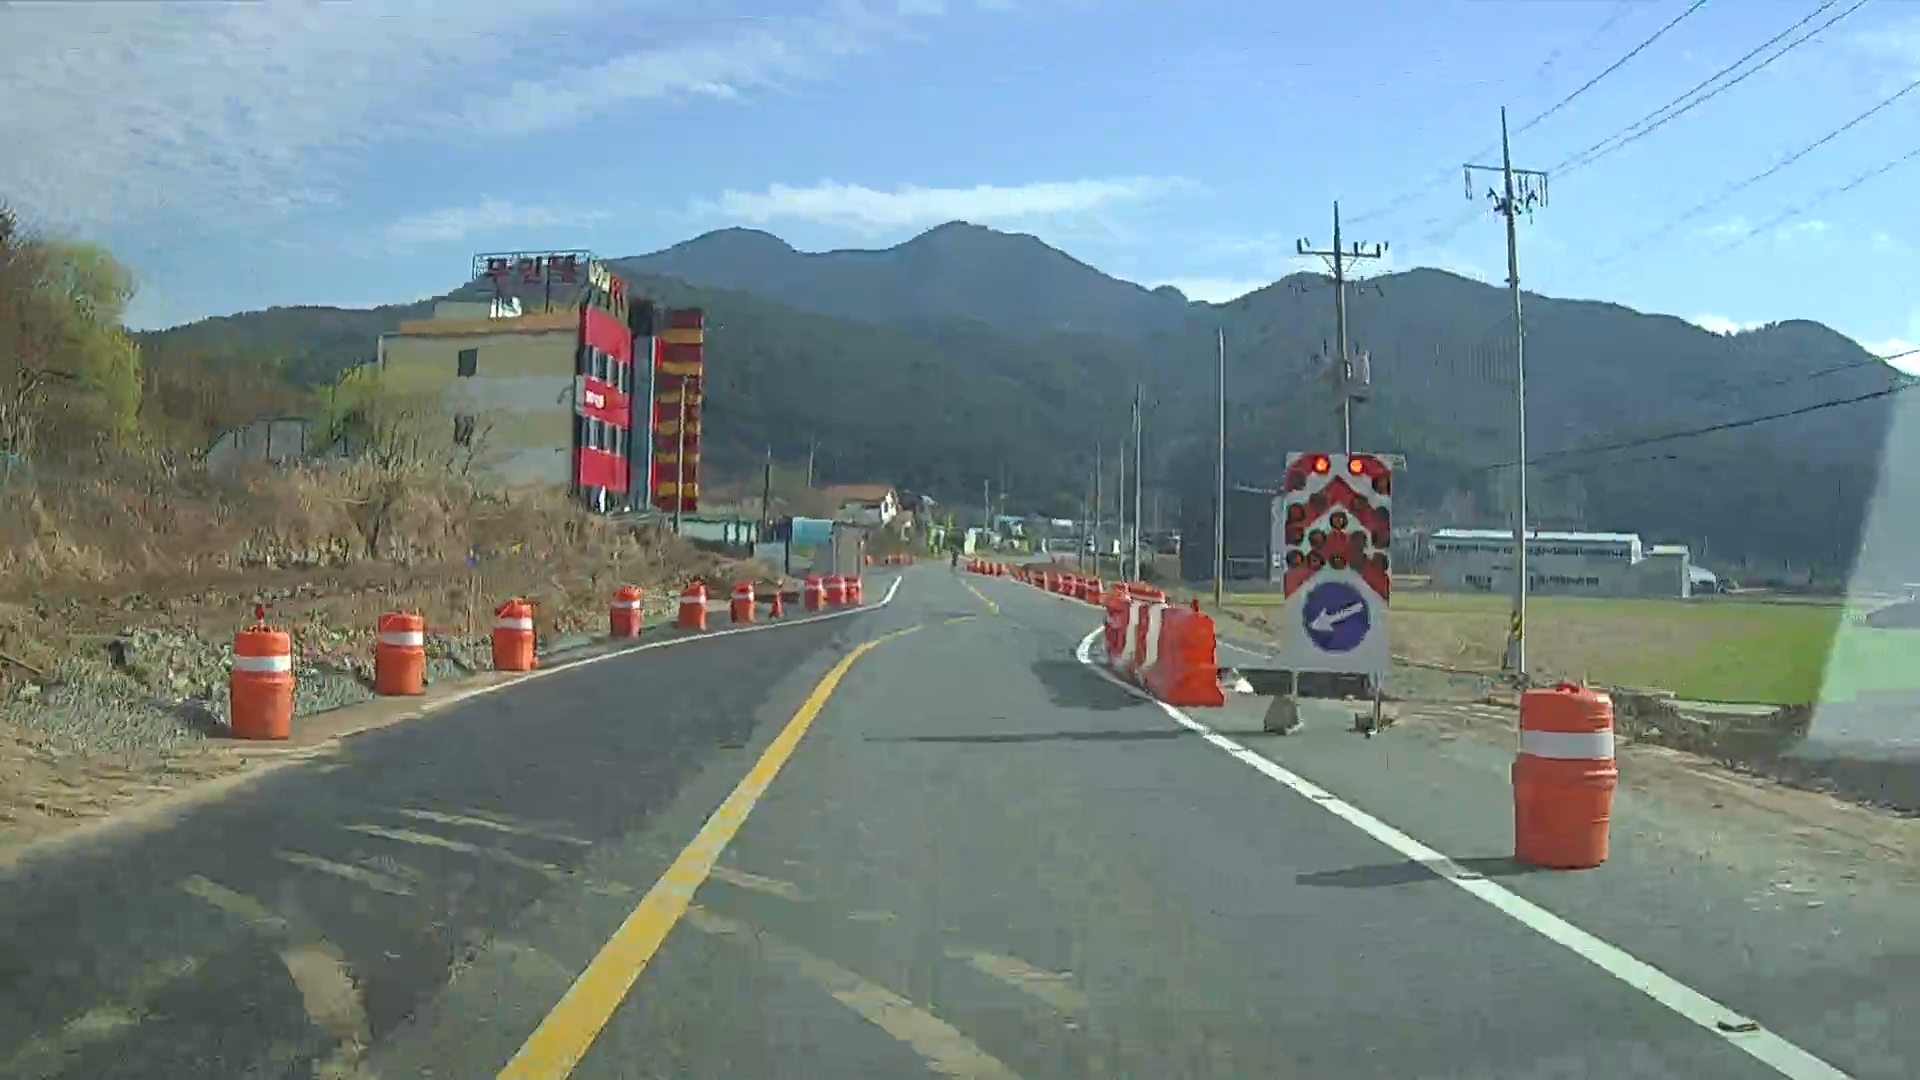trafficSignRTG: (1276, 448, 1393, 679)
